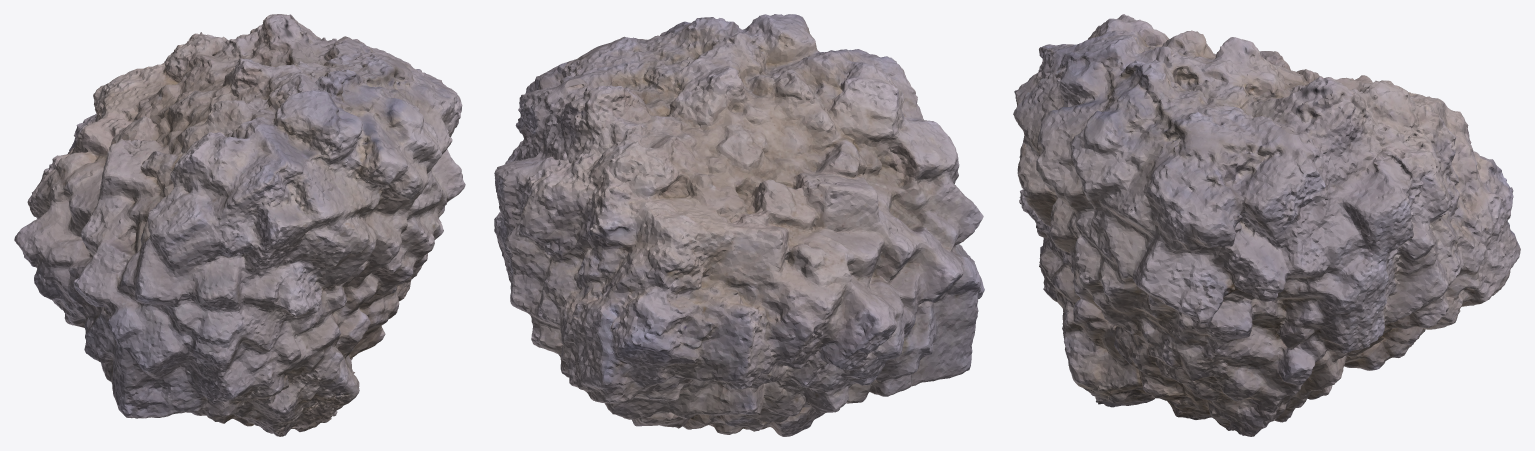
File: Halite.obj
3 views of the same model, side by side, from view 1: azimuth 30°, elevation 25°; view 2: azimuth 150°, elevation 25°; view 3: azimuth 270°, elevation 25° (orthographic). The views are drawn at different scales.
Bounding box in the file's own units: 3.16 × 2.62 × 3.2.
1 material, 1 textured.
